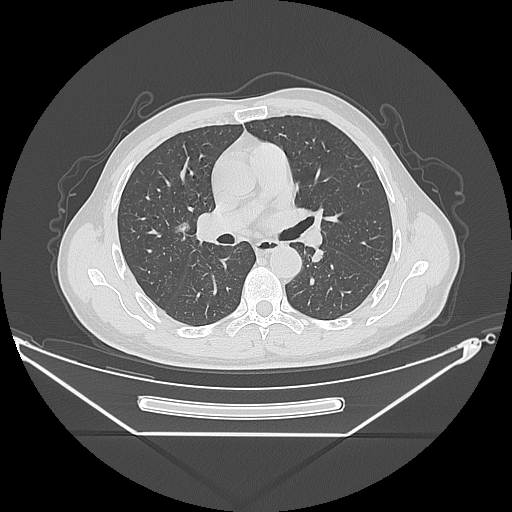nodule: (174, 221, 190, 232)
